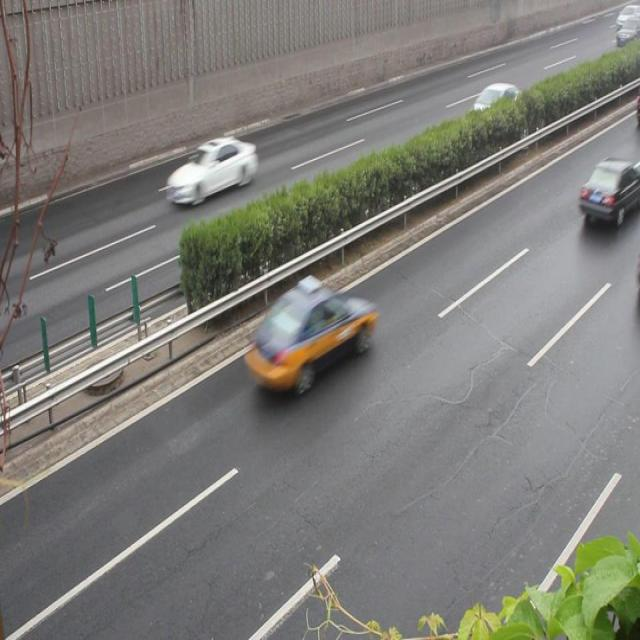car: (245, 278, 376, 396), (165, 137, 256, 204), (578, 157, 640, 227), (459, 84, 524, 145)
